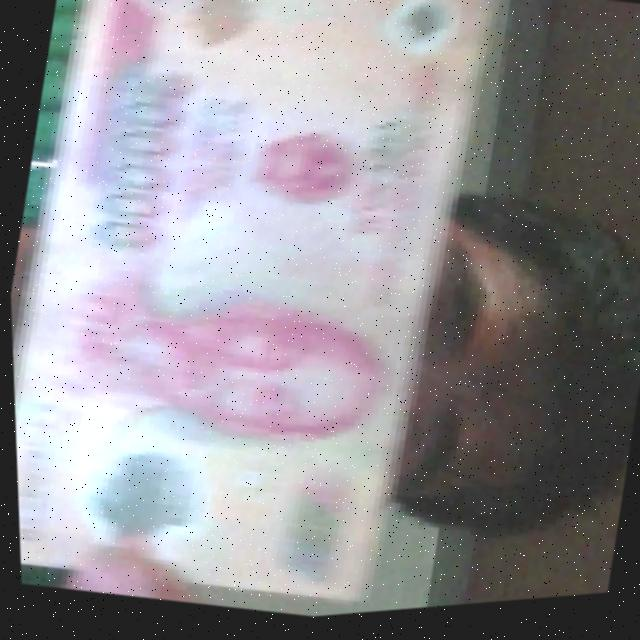200 000 VND: (0, 0, 529, 640)
